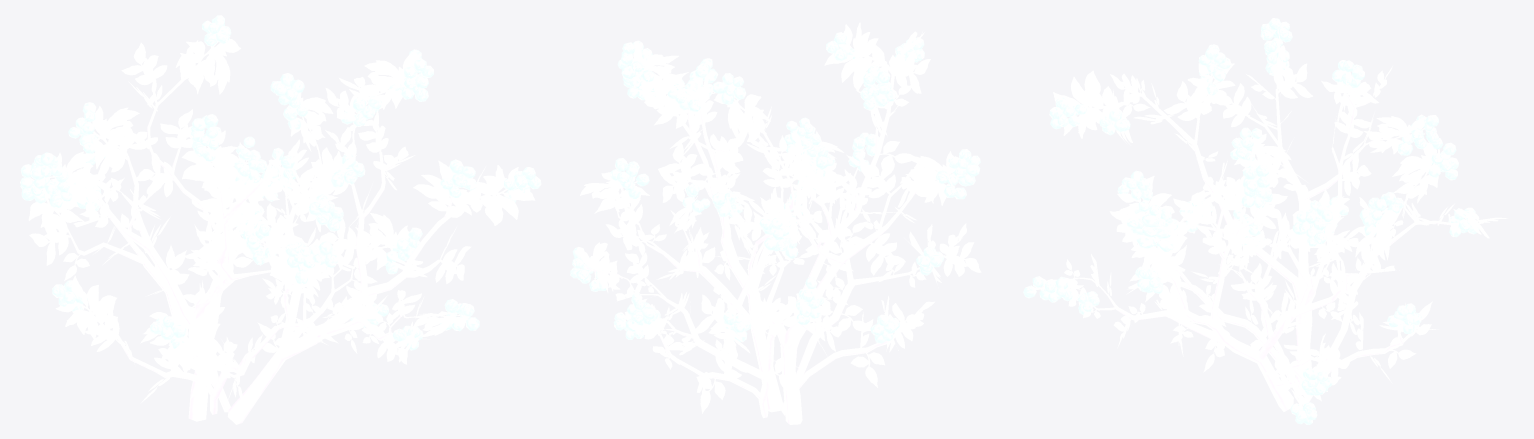
3 views of the same model, side by side, from view 1: azimuth 30°, elevation 25°; view 2: azimuth 150°, elevation 25°; view 3: azimuth 270°, elevation 25° (orthographic). The views are drawn at different scales.
Parts seen in each view (by area): view 1: SM_Dwellberry_Bush_01_LOD0; view 2: SM_Dwellberry_Bush_01_LOD0; view 3: SM_Dwellberry_Bush_01_LOD0.
Part boxes in pixels (<box>): SM_Dwellberry_Bush_01_LOD0: <box>20,15,541,424</box>; SM_Dwellberry_Bush_01_LOD0: <box>570,22,981,424</box>; SM_Dwellberry_Bush_01_LOD0: <box>1023,18,1507,424</box>.
Bounding box in the file's own units: 1.6 × 1.34 × 1.69.
1 material, 1 textured.
